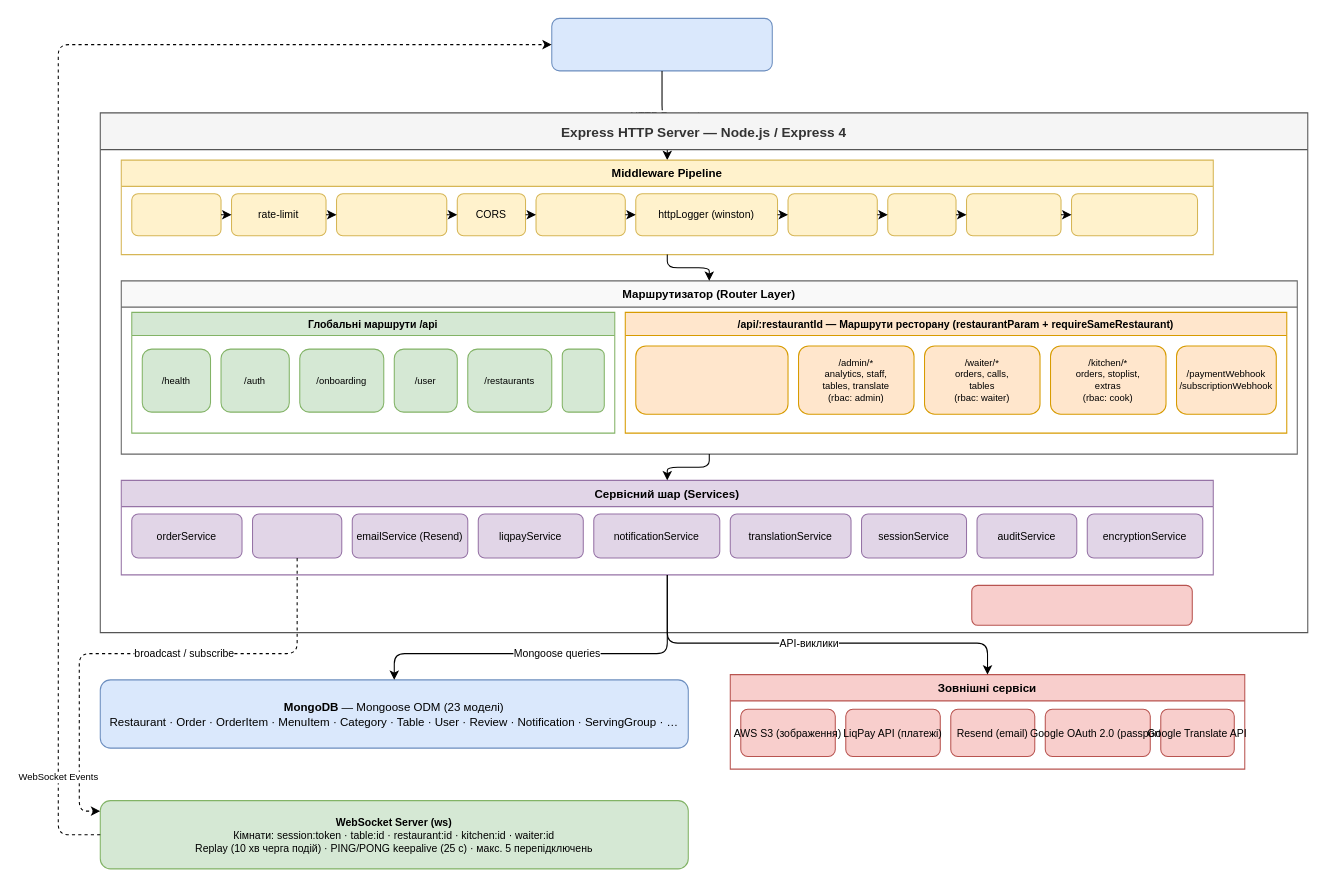
Image size: 1326x887. Some labels were removed from this diagram. Here are the shapes that lost their labels. From the top down, the centre of each, then its label:
At (x=661, y=44): "Клієнт Browser / PWA (React SPA)".
At (x=176, y=214): "helmet".
At (x=391, y=214): "mongo-sanitize".
At (x=580, y=214): "requestId".
At (x=832, y=214): "auth (JWT)".
At (x=921, y=214): "rbac".
At (x=1013, y=214): "requirePlan".
At (x=1134, y=214): "restaurantParam".
At (x=582, y=380): "/qr".
At (x=711, y=379): "/info /menu /orders /reviews /payments /subscriptions".
At (x=296, y=535): "wsService".
At (x=1081, y=604): "errorHandler (глобальний)".
